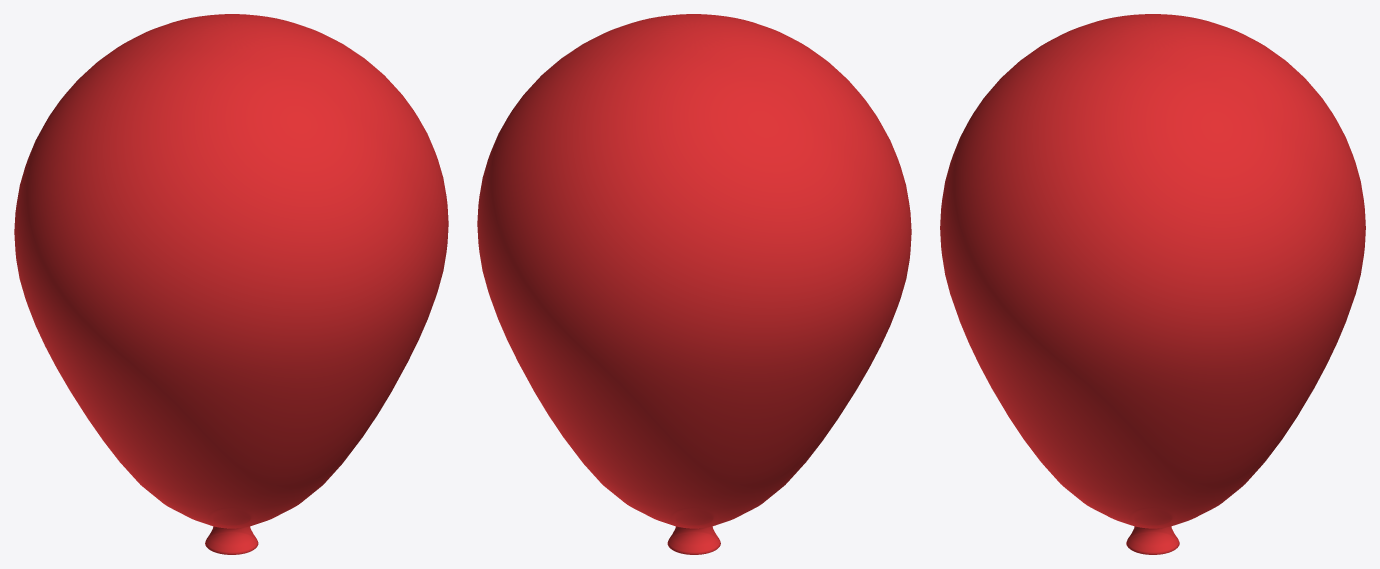
The picture shows the model from 3 angles, left to right: view 1: azimuth 30°, elevation 25°; view 2: azimuth 150°, elevation 25°; view 3: azimuth 270°, elevation 25°; orthographic projection.
Parts seen in each view (by area): view 1: 구체; view 2: 구체; view 3: 구체.
Part boxes in pixels (x1=…): 구체: x1=14, y1=14, x2=448, y2=554; 구체: x1=477, y1=14, x2=911, y2=554; 구체: x1=940, y1=14, x2=1365, y2=554.
Bounding box in the file's own units: 205 × 261 × 197.
